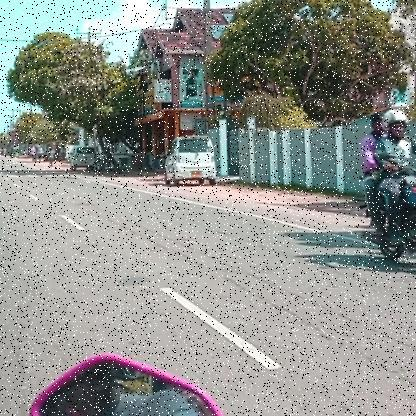motorcycle: (349, 158, 416, 283)
